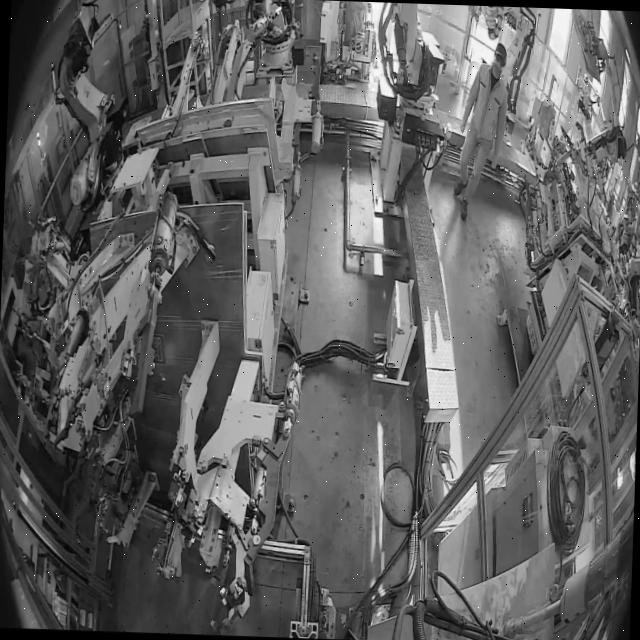Person: (452, 40, 509, 222)
